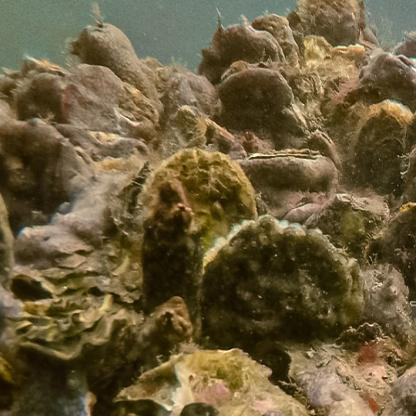3: (242, 149, 339, 229), (13, 295, 110, 360), (194, 25, 284, 88), (361, 54, 416, 111), (302, 130, 342, 170)
Oyster-Closed: (200, 218, 363, 348), (146, 145, 259, 252)
Oyster-Open: (0, 116, 83, 236), (145, 183, 202, 335), (218, 64, 304, 151), (362, 205, 416, 263)
